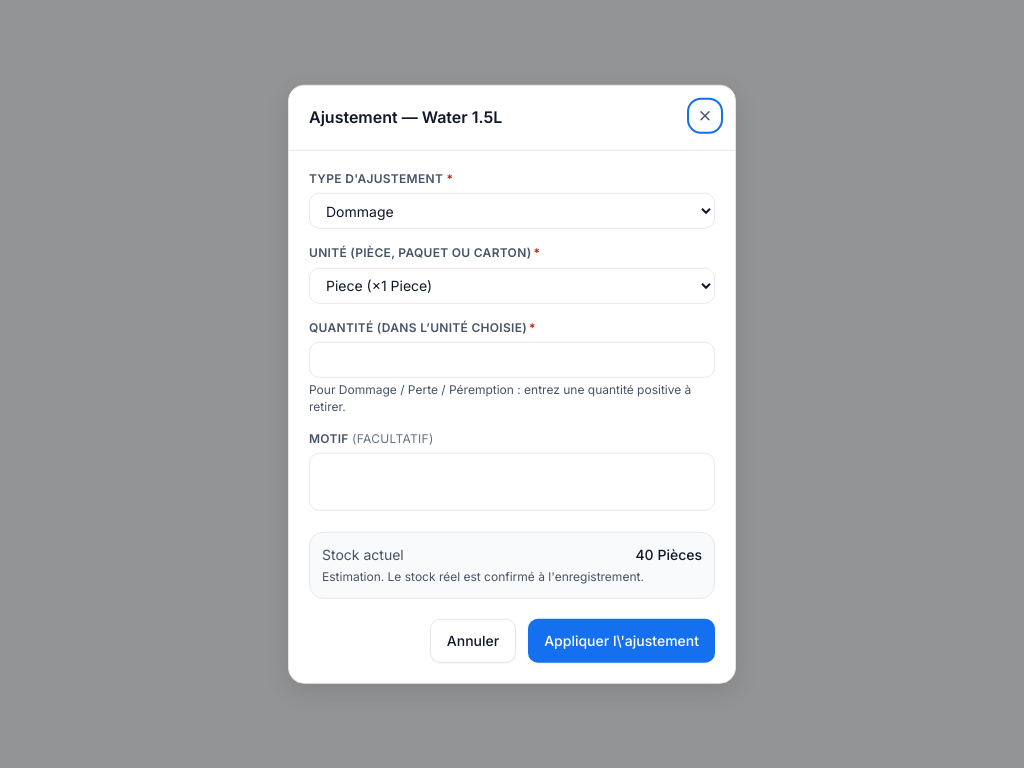
Test: AdjustmentModal mutation error path › renders mapped PRODUCT_INACTIVE after RPC error
Type "5" into the number field at (512, 360), box x1=309 y1=342 x2=715 y2=378
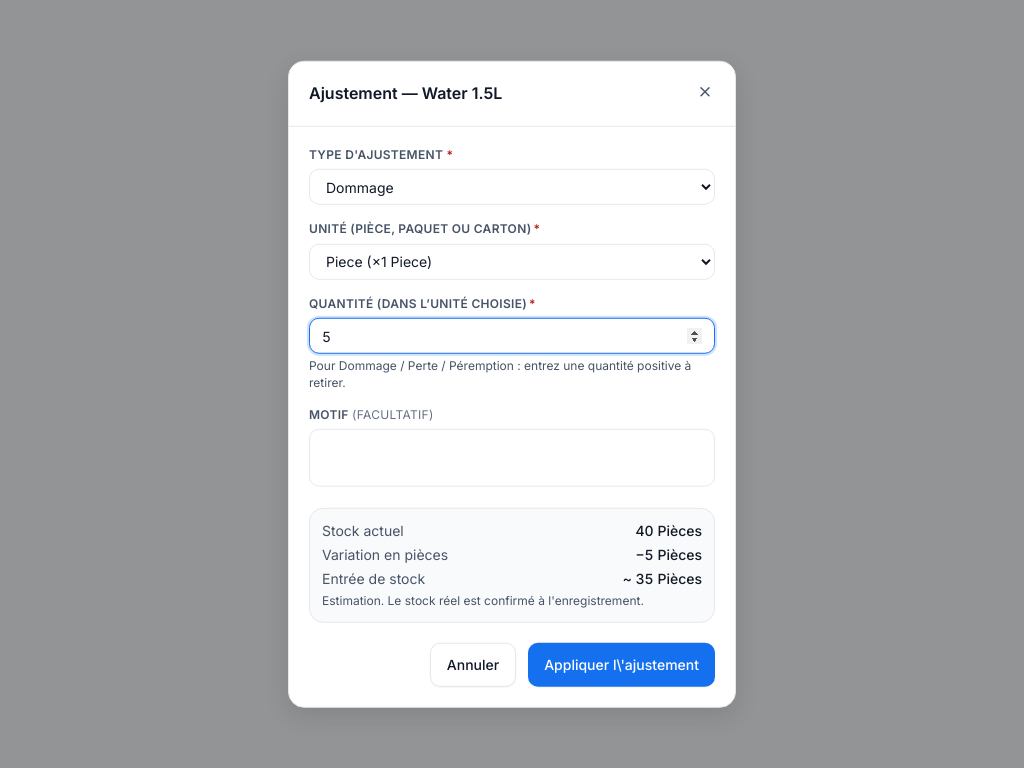
Click the button "Appliquer l\\'ajustement" at (622, 664), box x1=528 y1=642 x2=715 y2=686
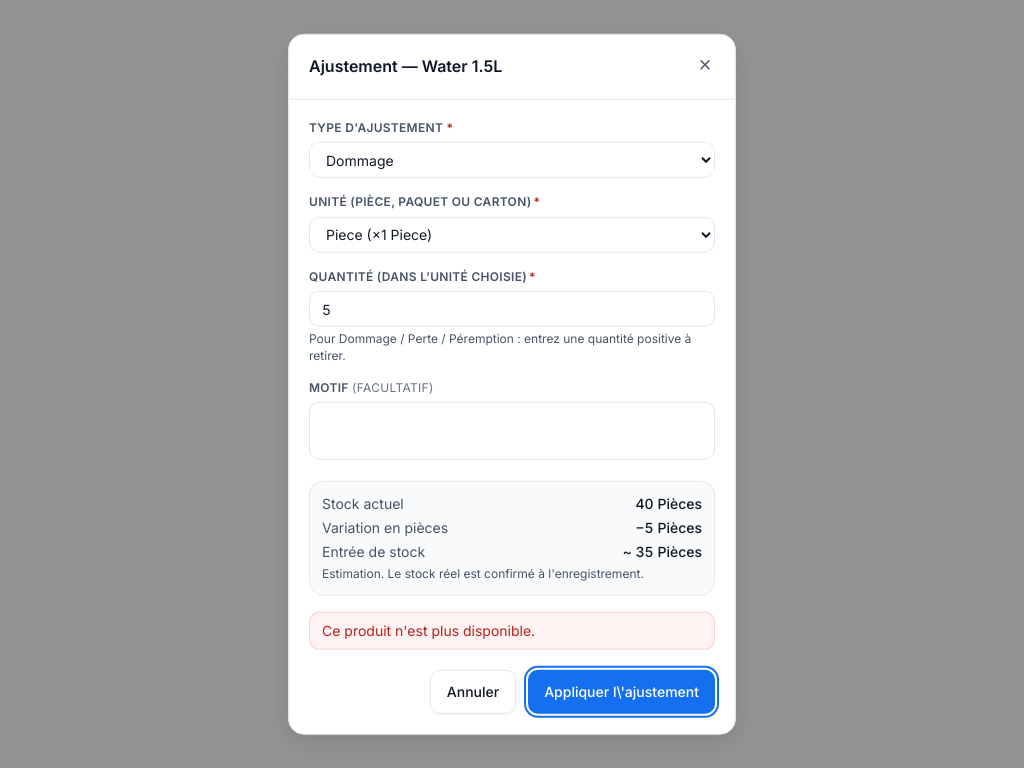
Result: the text "Ce produit n'est plus disponible." is shown at x1=322 y1=621 x2=535 y2=638
